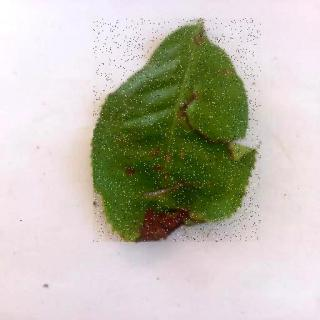Brown Blight: (94, 20, 262, 244)
